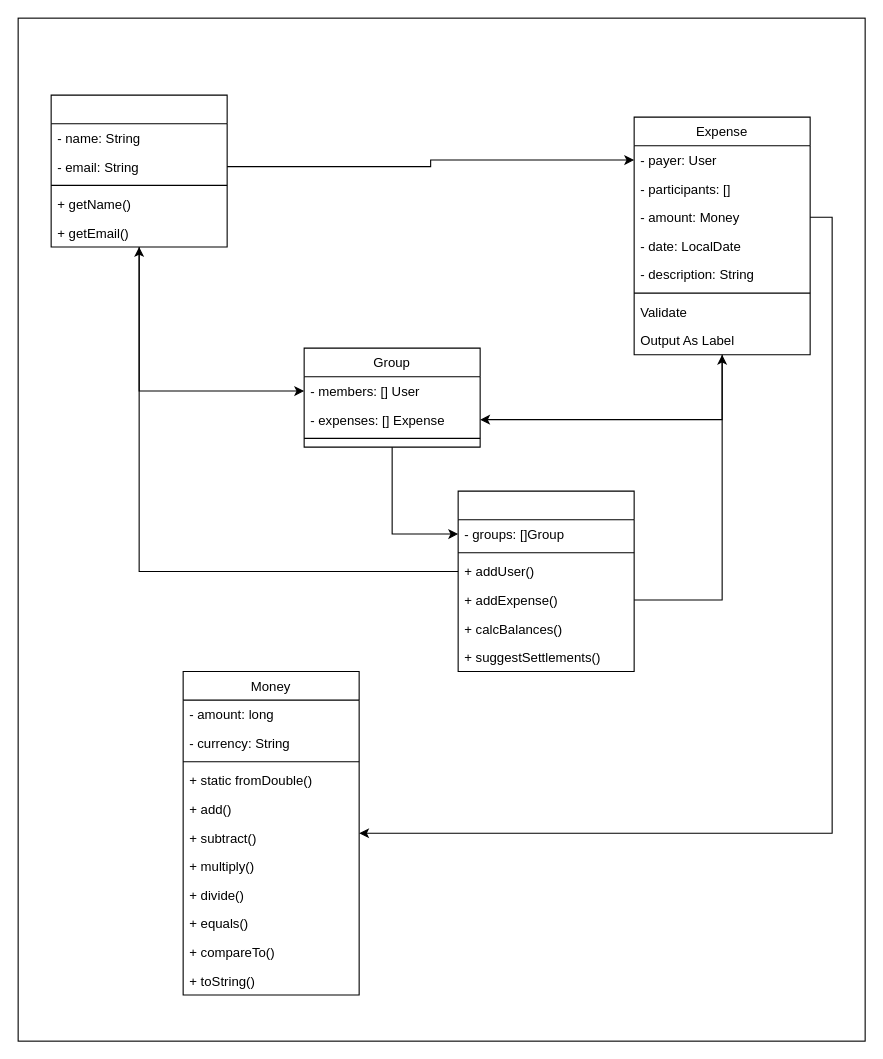
Some shapes in this 883 by 1059 pixel diagram are drawn without their labels. The box of each missing label's shape, as (x1, y1, x2, y2) in pixels:
ExpenseManager: (457, 490, 634, 672)
User: (50, 94, 227, 247)
